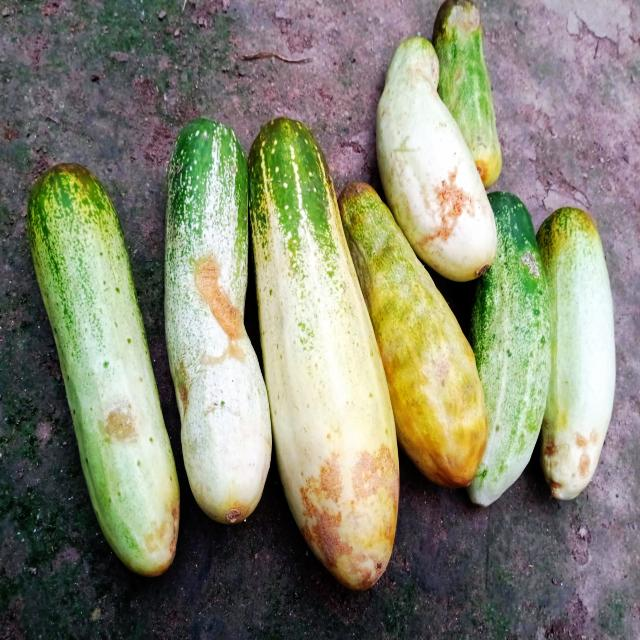Belly-Rot: (298, 442, 408, 580), (173, 244, 252, 417), (418, 165, 477, 257), (542, 427, 602, 489), (143, 499, 183, 558), (99, 400, 142, 449), (443, 0, 482, 46)
